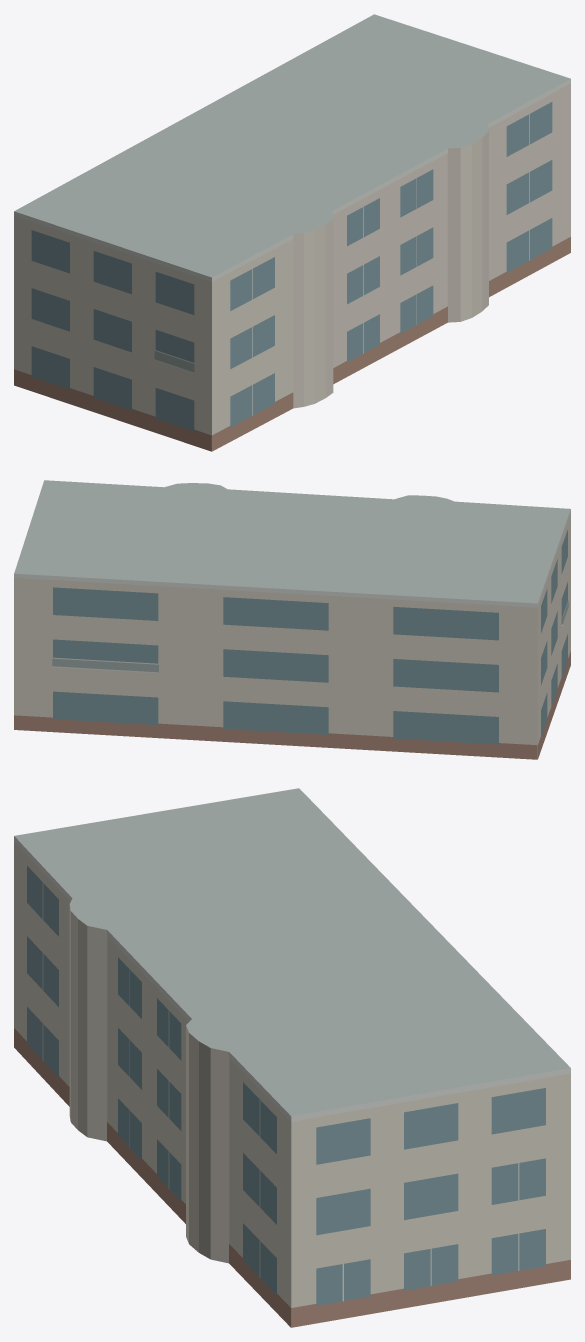
Rendered from survey-upis-32612840.glb.
The picture shows the model from 3 angles, top to bottom: view 1: azimuth 30°, elevation 25°; view 2: azimuth 150°, elevation 25°; view 3: azimuth 270°, elevation 25°; orthographic projection. The views are drawn at different scales.
Visible parts, largest first — view 1: survey-upis-32612840.tmp; view 2: survey-upis-32612840.tmp; view 3: survey-upis-32612840.tmp.
Boxes of the visible parts, left/top/right/bottom form: survey-upis-32612840.tmp: left=14, top=14, right=570, bottom=451; survey-upis-32612840.tmp: left=14, top=480, right=570, bottom=759; survey-upis-32612840.tmp: left=14, top=788, right=570, bottom=1327.
Bounding box in the file's own units: 30.44 × 9.15 × 21.83.
